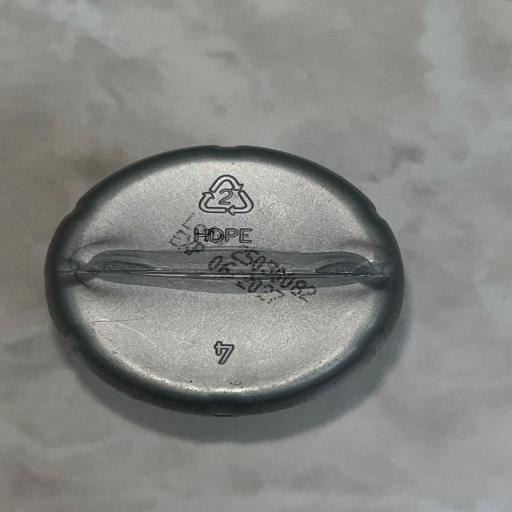HDPE: (21, 60, 428, 459)
